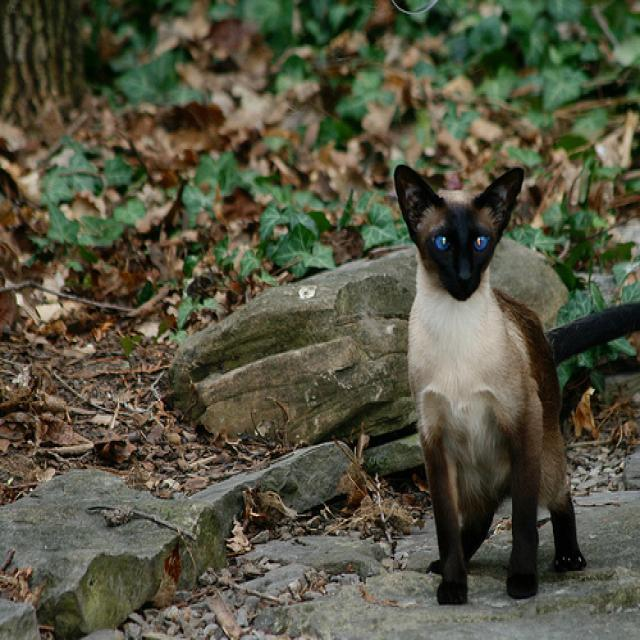Siamese: (388, 153, 526, 302)
